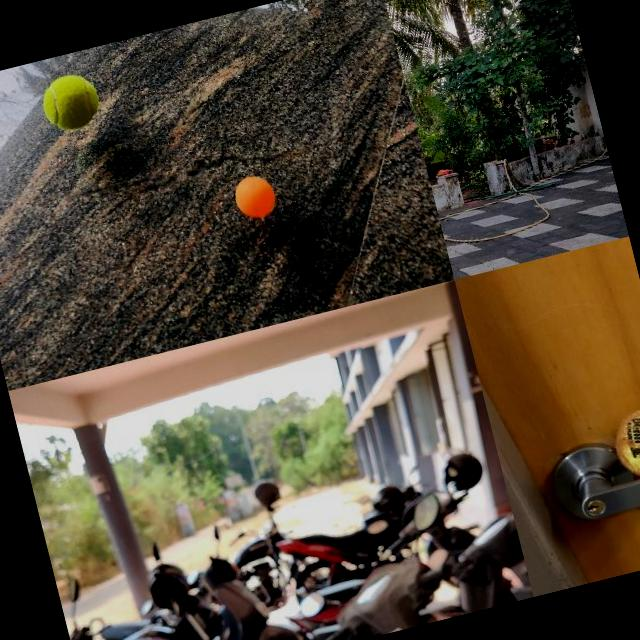tennis-ball: (37, 70, 102, 134), (605, 400, 640, 483)
